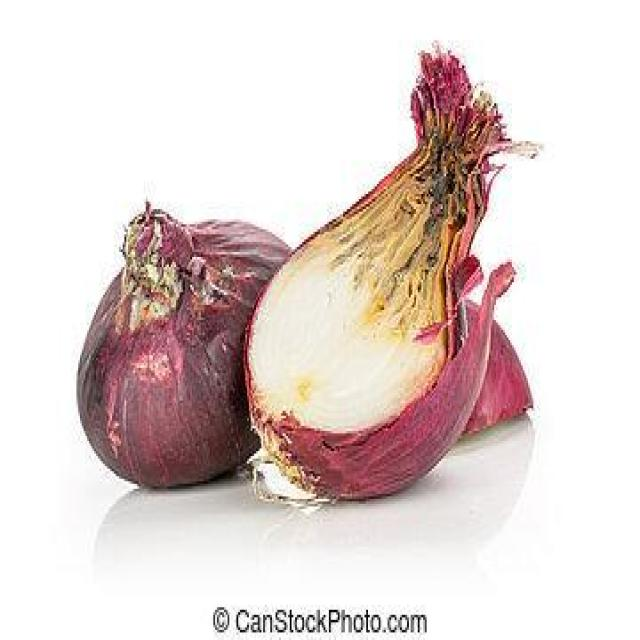Onion: (244, 51, 542, 516), (73, 204, 299, 491), (467, 296, 532, 440)
